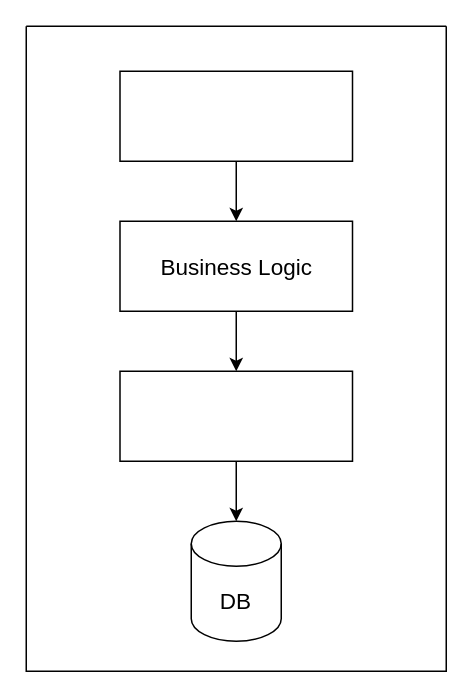
This 473x698 diagram has some shape labels left out. The centre of each missing label's shape, as x and y in pixels:
"Data Access Layer" belongs at (235,415).
"UI" belongs at (235,115).
